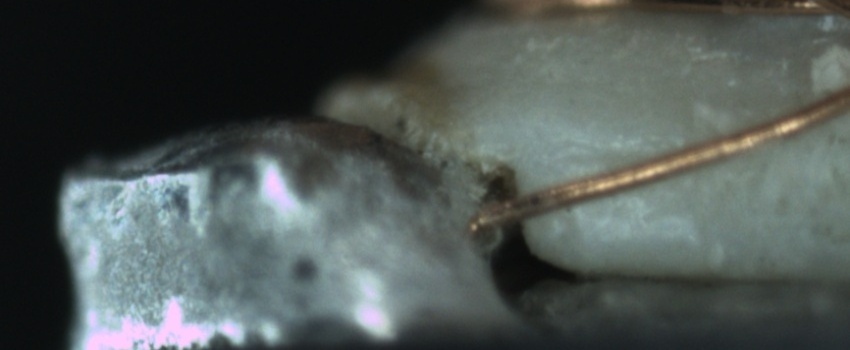DL: (564, 125, 694, 181)
